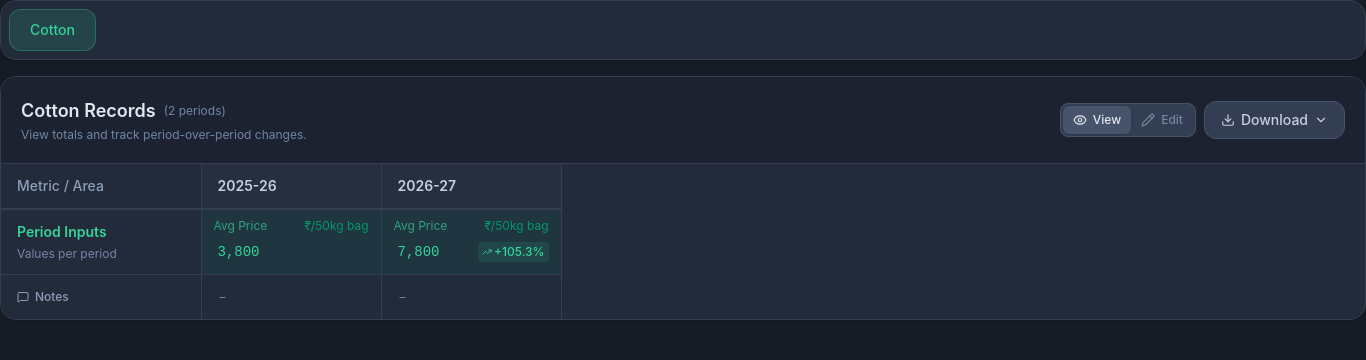
Test: SpreadsheetTab › names summary edit inputs with their field and period
What coordinates should you click on to do the following:
click the button "Edit"
I would click on:
 (1162, 120)
Its box is [1131,106,1193,134].
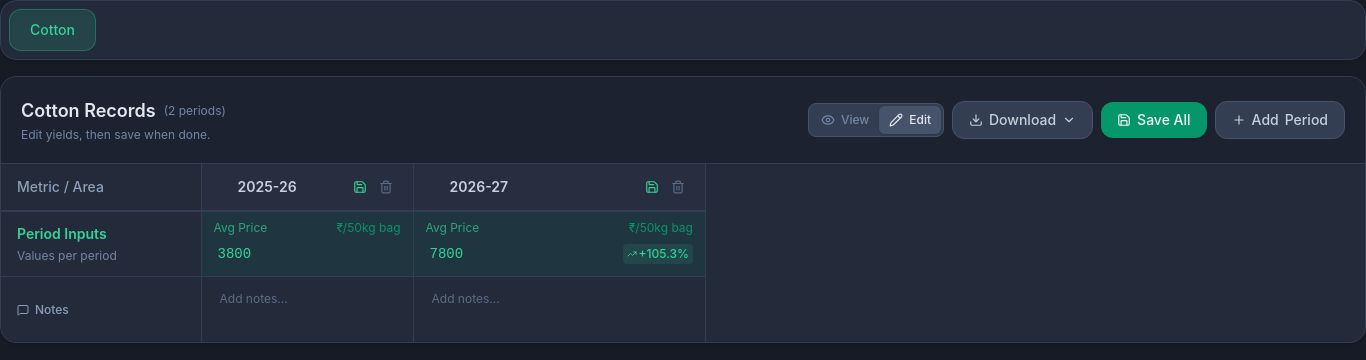
Result: the number field named "Avg Price for 2025-26" is shown at [214,240,400,268]
Result: the number field named "Avg Price for 2026-27" is shown at [426,240,610,268]
